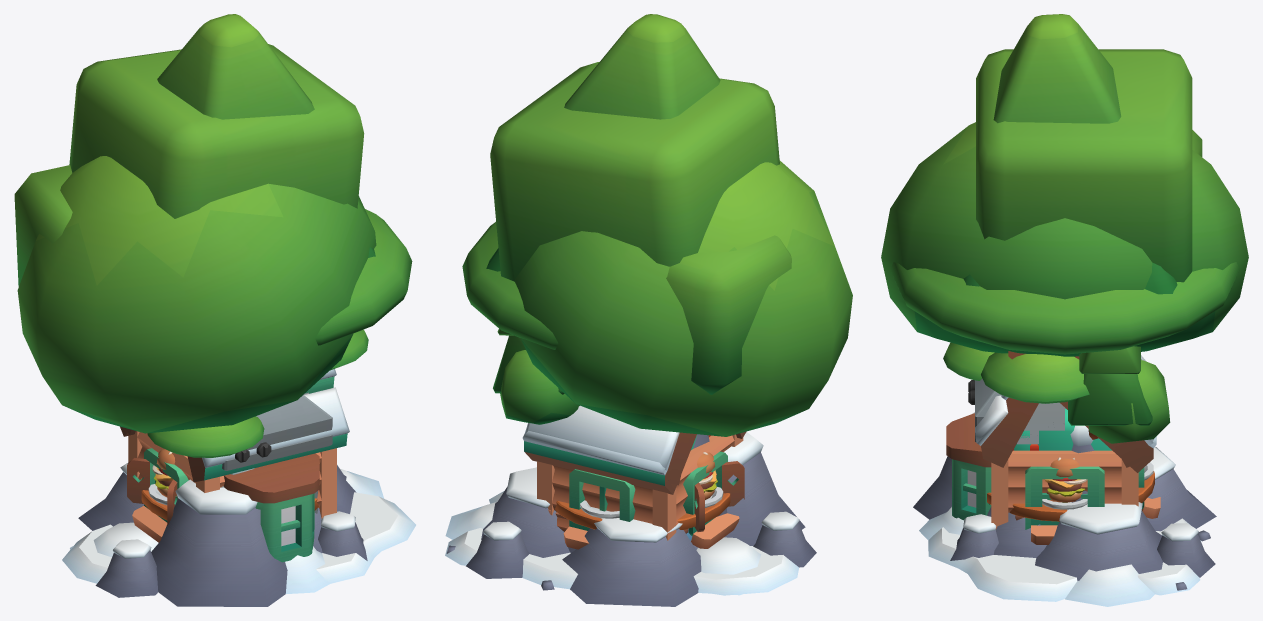
File: props.glb
3 renders of one model, left to right at view 1: azimuth 30°, elevation 25°; view 2: azimuth 150°, elevation 25°; view 3: azimuth 270°, elevation 25°, orthographic. The views are drawn at different scales.
Visible parts, largest first — view 1: Tree_1_A_Color1, Tree_2_A_Color1, rocks-large, Tree_4_A_Color1, Tree_3_A_Color1, cabin-window-large, snow-flat-large, extractorhood, cabin-roof-snow-point, cabin-window-a, cabin-window-c, table_round_A_decorated (+1 smaller); view 2: Tree_1_A_Color1, Tree_2_A_Color1, rocks-large, Tree_4_A_Color1, snow-flat-large, cabin-roof-snow-point, Tree_3_A_Color1, cabin-roof-snow-chimney, cabin-window-b, cabin-window-a, table_round_A_decorated, cabin-corner (×2) (+3 smaller); view 3: Tree_2_A_Color1, Tree_1_A_Color1, Tree_3_A_Color1, rocks-large, Tree_4_A_Color1, snow-flat-large, cabin-window-a, cabin-window-large, cabin-roof-snow-point, table_round_A_decorated, cabin-corner (×2), kitchencabinet (+5 smaller).
Boxes of the visible parts, x1,y1,x2,y2 form: Tree_1_A_Color1: (17,156,376,433); Tree_2_A_Color1: (14,44,364,286); rocks-large: (70,463,383,606); Tree_4_A_Color1: (157,14,375,257); Tree_3_A_Color1: (147,209,412,457); cabin-window-large: (220,452,321,562); snow-flat-large: (62,492,415,583); extractorhood: (222,395,332,470); cabin-roof-snow-point: (125,369,349,482); cabin-window-a: (132,432,195,542); cabin-window-c: (127,458,177,525); table_round_A_decorated: (140,449,318,519); Tree_1_A_Color1: (500,160,852,436); Tree_2_A_Color1: (490,62,791,394); rocks-large: (445,432,816,606); Tree_4_A_Color1: (486,14,720,394); snow-flat-large: (445,491,798,595); cabin-roof-snow-point: (524,405,746,485); Tree_3_A_Color1: (462,222,558,349); cabin-roof-snow-chimney: (522,430,696,494); cabin-window-b: (552,465,652,549); cabin-window-a: (676,435,739,548); table_round_A_decorated: (555,452,730,529); cabin-corner (×2): (537,461,676,540); Tree_2_A_Color1: (976,49,1202,282); Tree_1_A_Color1: (881,122,1248,443); Tree_3_A_Color1: (890,262,1239,403); rocks-large: (913,412,1216,606); Tree_4_A_Color1: (963,14,1177,439); snow-flat-large: (928,518,1201,601); cabin-window-a: (1008,456,1121,544); cabin-window-large: (946,413,991,520); cabin-roof-snow-point: (975,355,1153,467); table_round_A_decorated: (987,457,1154,520); cabin-corner (×2): (991,459,1138,529); kitchencabinet: (1017,402,1064,444).
Bounding box in the file's own units: 5.74 × 8.49 × 5.2.
Materials: 4 (4 with a texture image).
